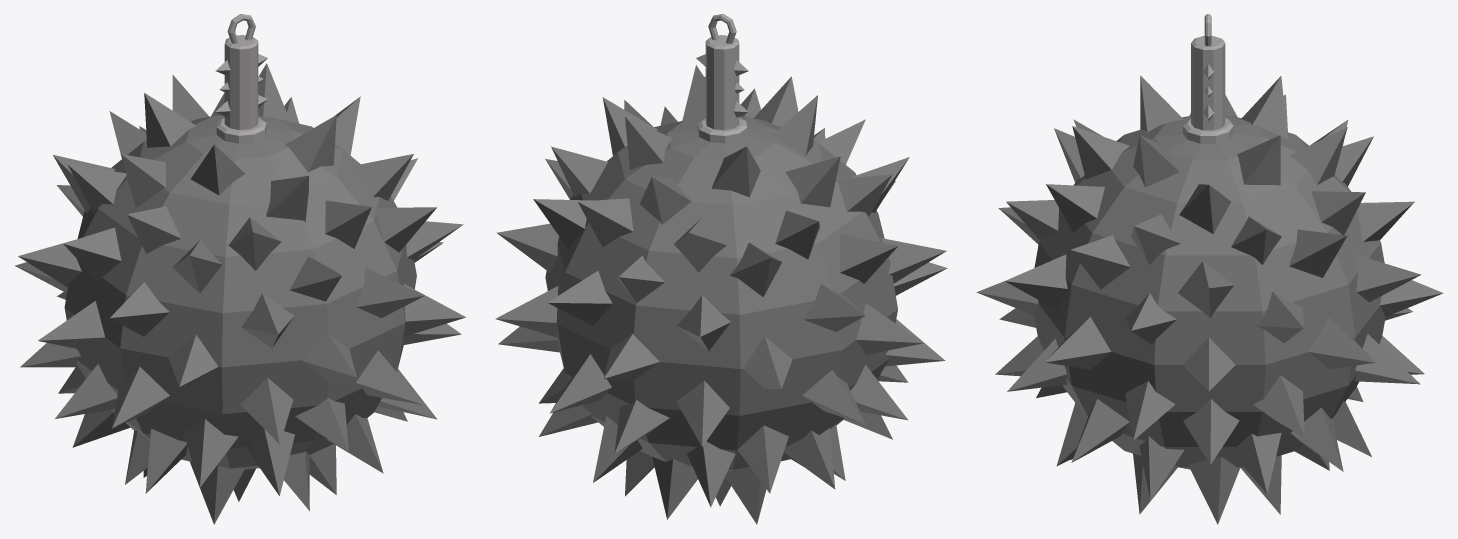
File: StonePendulumTrap_8.fbx
3 views of the same model, side by side, from view 1: azimuth 30°, elevation 25°; view 2: azimuth 150°, elevation 25°; view 3: azimuth 270°, elevation 25° (orthographic).
Parts seen in each view (by area): view 1: StonePendulumTrap_8; view 2: StonePendulumTrap_8; view 3: StonePendulumTrap_8.
Boxes of the visible parts, x1,y1,x2,y2 form: StonePendulumTrap_8: (15,14,465,524); StonePendulumTrap_8: (495,14,947,524); StonePendulumTrap_8: (976,14,1443,524).
Bounding box in the file's own units: 132 × 152 × 132.
